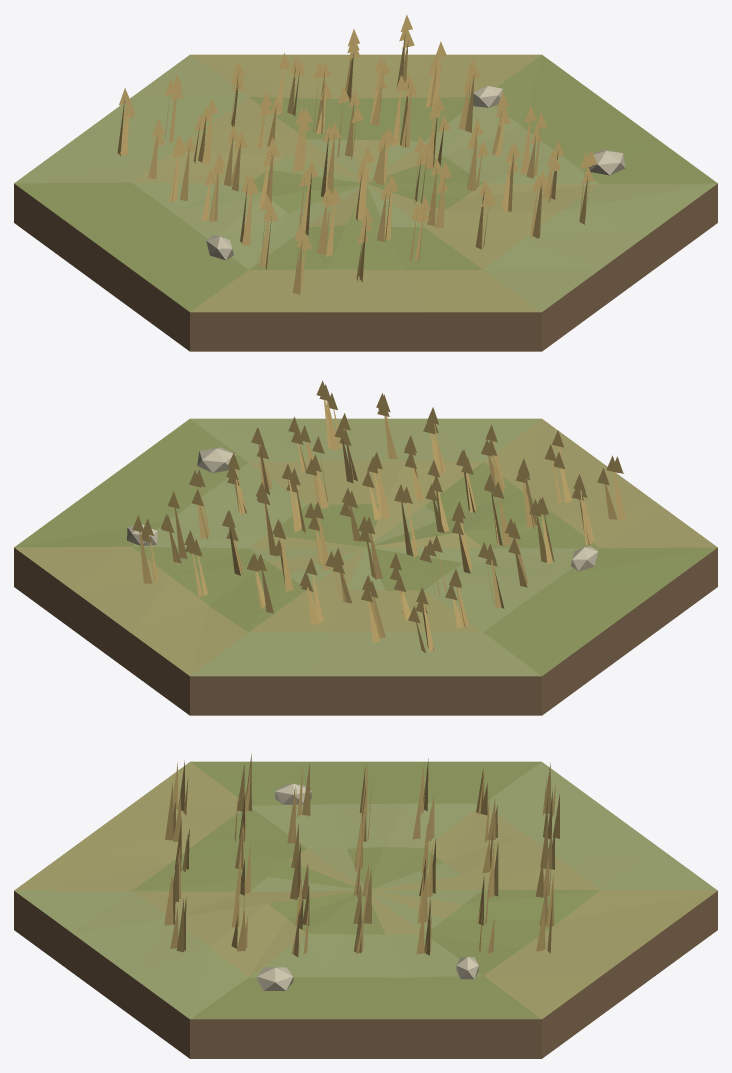
File: SM_Llanura_B_LOD0.fbx
3 renders of one model, top to bottom at view 1: azimuth 30°, elevation 25°; view 2: azimuth 150°, elevation 25°; view 3: azimuth 270°, elevation 25°, orthographic.
Visible parts, largest first — view 1: SM_Llanura_B_LOD0; view 2: SM_Llanura_B_LOD0; view 3: SM_Llanura_B_LOD0.
Boxes of the visible parts, left/top/right/bottom form: SM_Llanura_B_LOD0: left=14, top=14, right=717, bottom=351; SM_Llanura_B_LOD0: left=14, top=380, right=717, bottom=715; SM_Llanura_B_LOD0: left=14, top=754, right=717, bottom=1058.
Bounding box in the file's own units: 1.68 × 0.3347 × 1.94.
